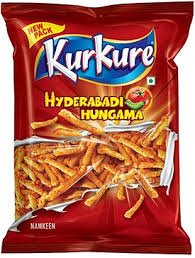kurkure: (31, 29, 159, 84)
plastic: (2, 4, 192, 255)
